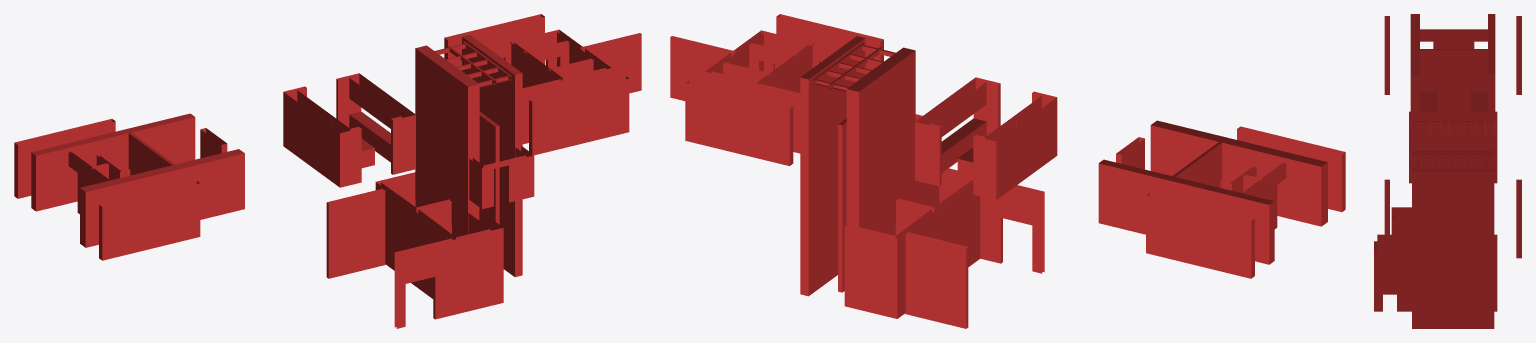
Rendered from hotl_interior.FBX.
3 renders of one model, left to right at view 1: azimuth 30°, elevation 25°; view 2: azimuth 150°, elevation 25°; view 3: azimuth 270°, elevation 25°, orthographic. The views are drawn at different scales.
Parts seen in each view (by area): view 1: interior; view 2: interior; view 3: interior.
Part boxes in pixels (x1,y1,x2,y2): interior: [14, 14, 641, 328]; interior: [670, 14, 1345, 328]; interior: [1374, 14, 1521, 328].
Bounding box in the file's own units: 42.53 × 14.12 × 11.97.
